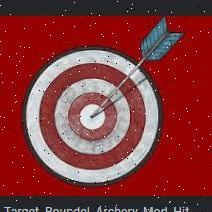target_red: (21, 44, 164, 186)
